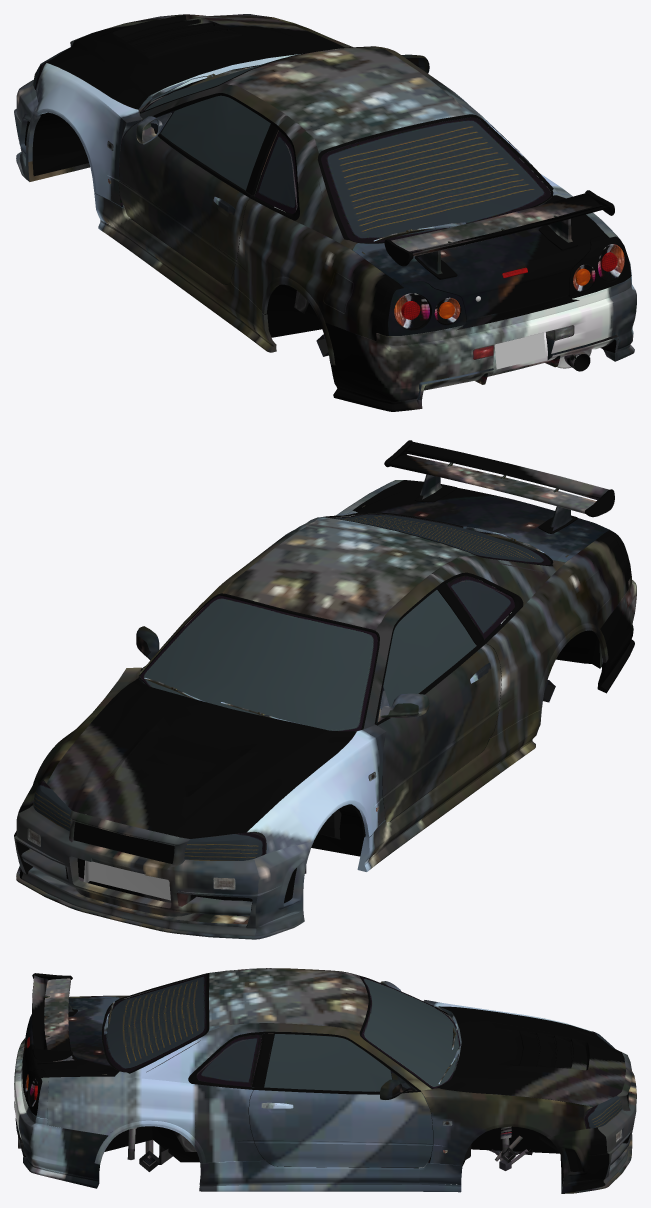
File: car.fbx
The picture shows the model from 3 angles, top to bottom: view 1: azimuth 30°, elevation 25°; view 2: azimuth 150°, elevation 25°; view 3: azimuth 270°, elevation 25°; orthographic projection. The views are drawn at different scales.
Parts seen in each view (by area): view 1: car_LOD0; view 2: car_LOD0; view 3: car_LOD0.
Boxes of the visible parts, x1,y1,x2,y2 form: car_LOD0: (14,14,636,411); car_LOD0: (14,440,636,939); car_LOD0: (14,968,636,1193).
Size of the model in its own units: 212 by 136 by 515.
